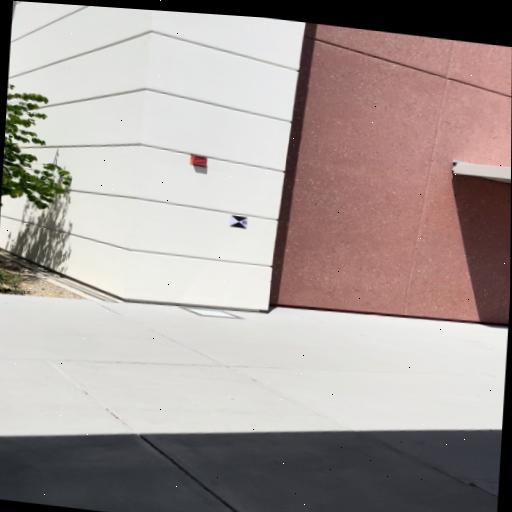target6: (229, 215, 249, 229)
